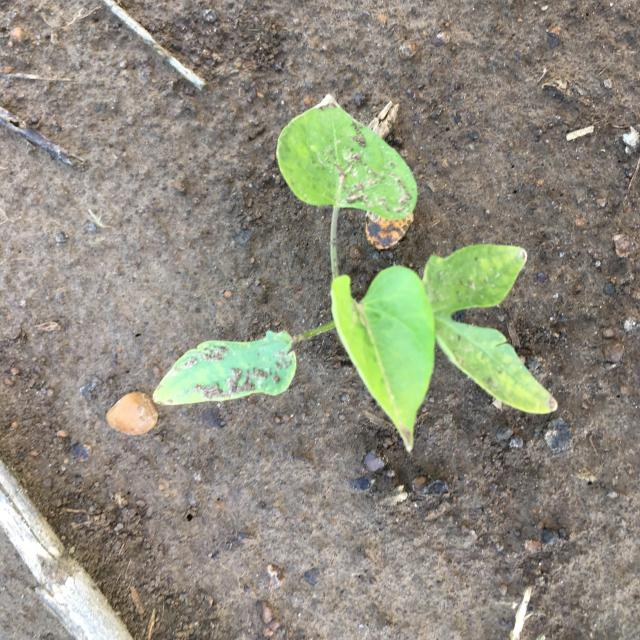MorningGlory: (153, 104, 558, 452)
